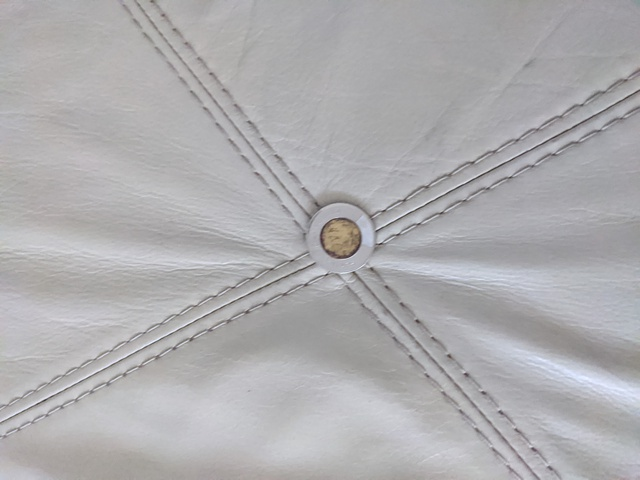twonie: (307, 206, 377, 271)
